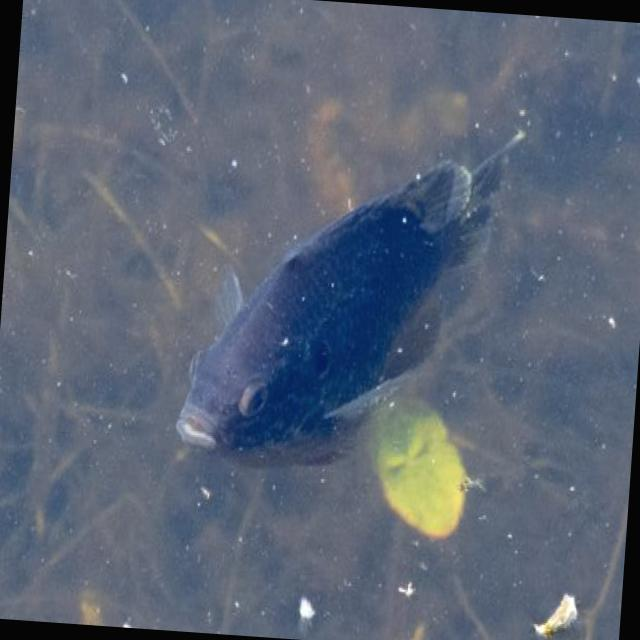Gunes Levregi: (160, 118, 518, 476)
